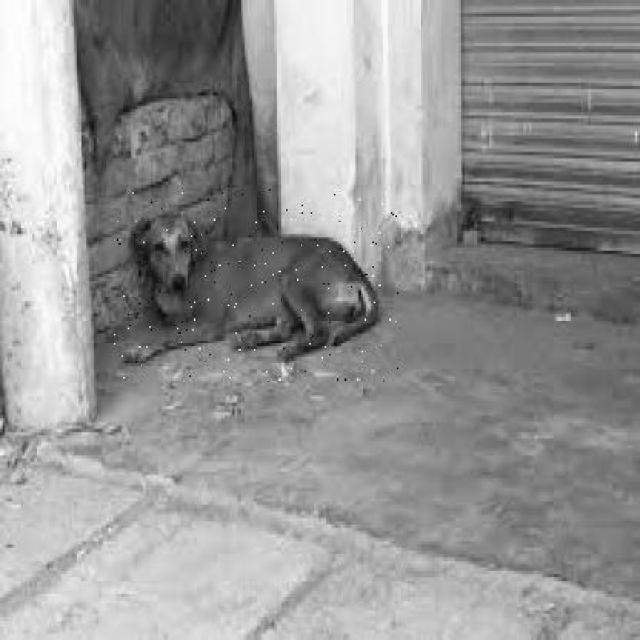Dog: (111, 189, 400, 383)
